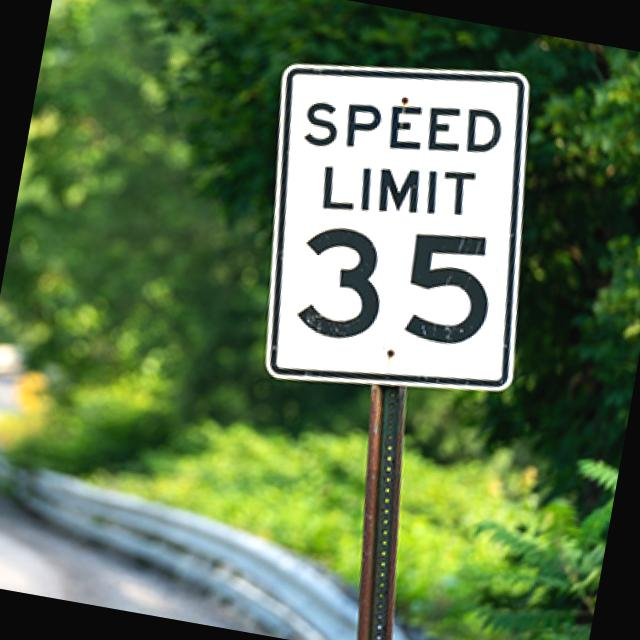Speed Limit Signs: (215, 31, 568, 418)
